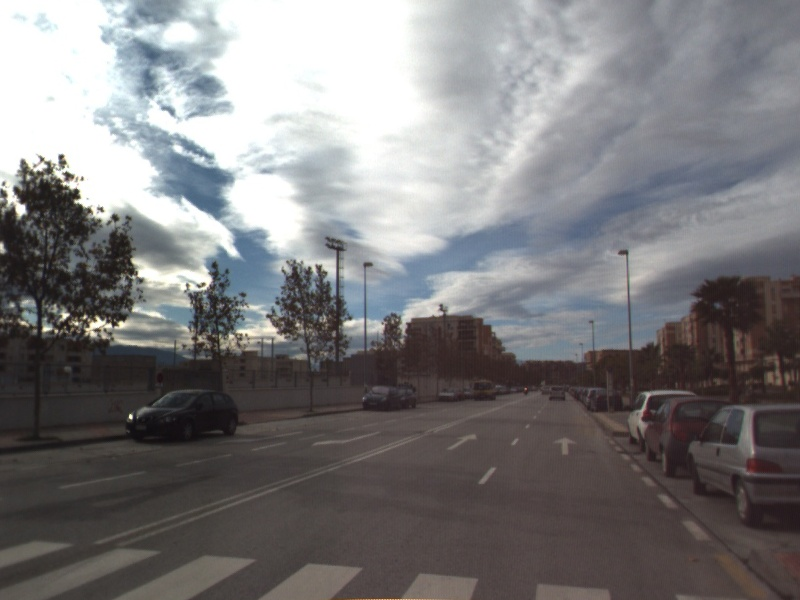STRAIGHT: (444, 431, 480, 452), (551, 435, 580, 457)
